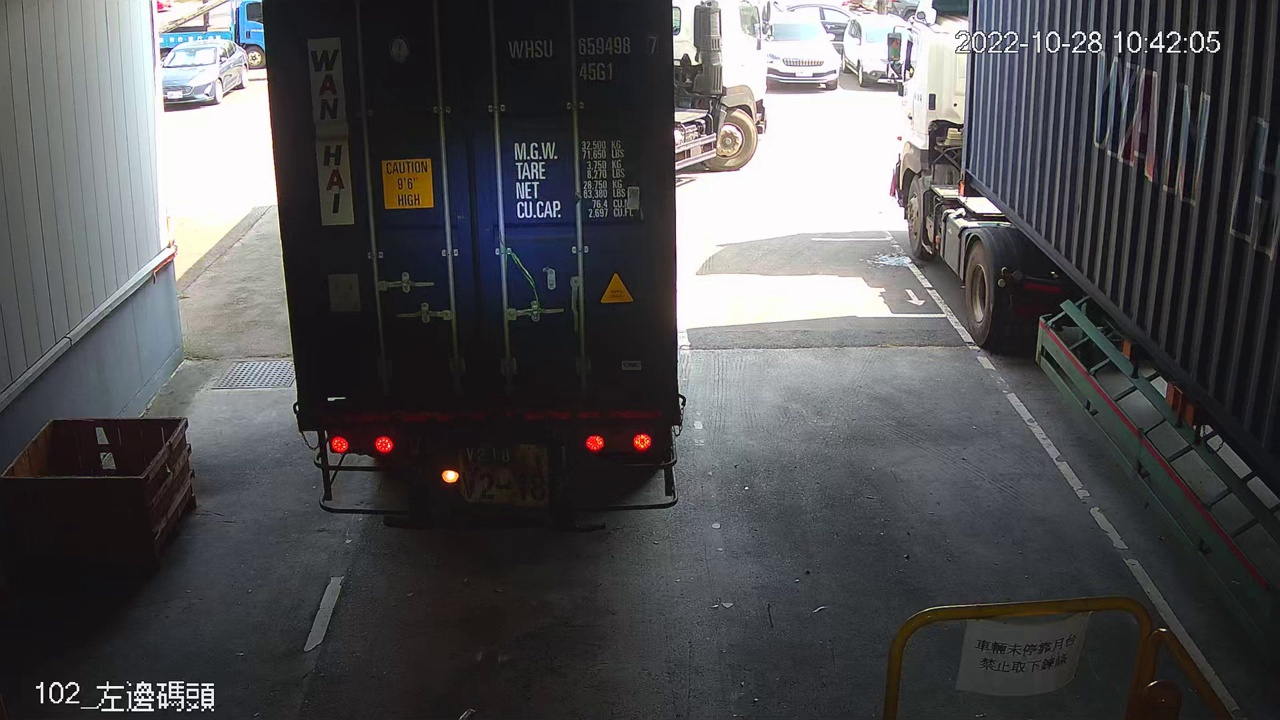container: (503, 30, 666, 88)
